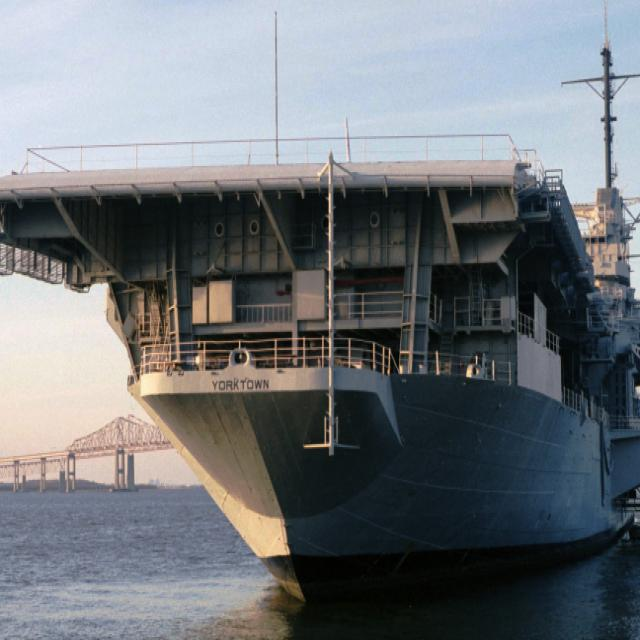Portanaves: (1, 3, 640, 611)
